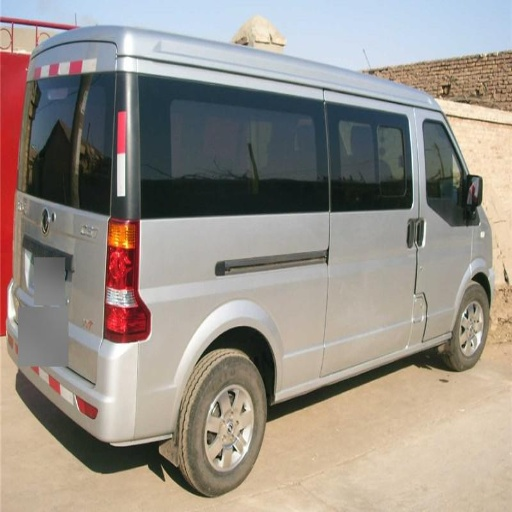back_bumper: (71, 338, 165, 447)
back_glass: (148, 127, 236, 180)
back_right_door: (220, 116, 280, 211)
trunk: (154, 216, 331, 435), (13, 196, 119, 380)
